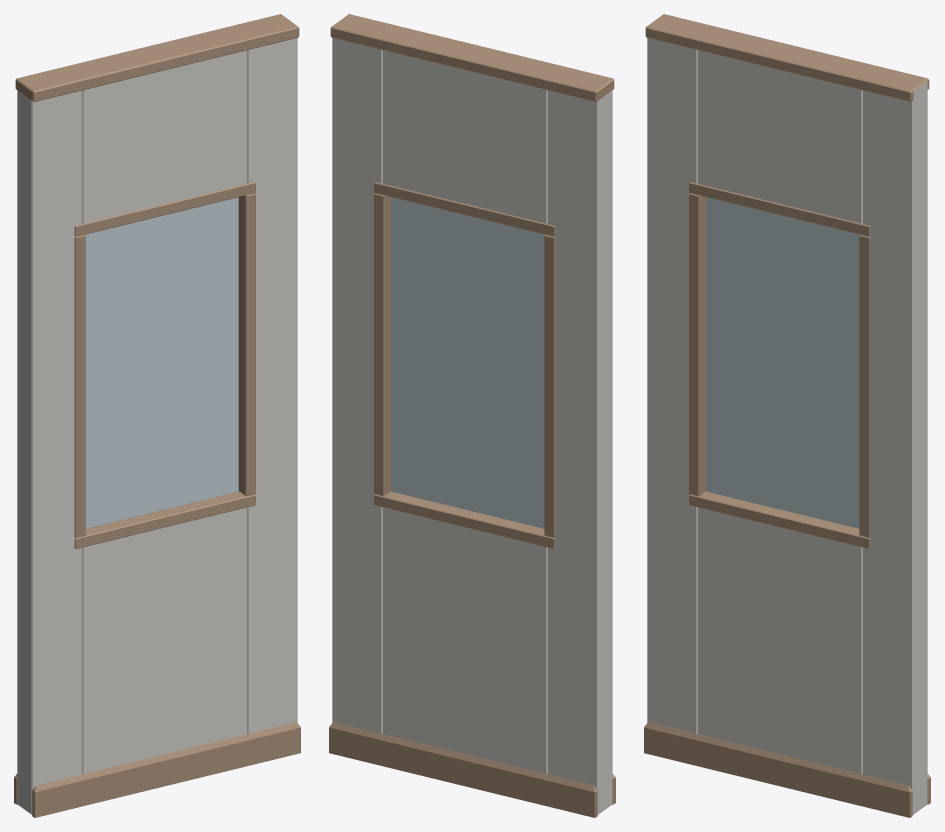
Rendered from hotel-and-resort-operations-partition-wall-glazed-806480f5__25846.glb.
3 views of the same model, side by side, from view 1: azimuth 30°, elevation 25°; view 2: azimuth 150°, elevation 25°; view 3: azimuth 330°, elevation 25° (orthographic).
Parts seen in each view (by area): view 1: partition-wall-glazed; view 2: partition-wall-glazed; view 3: partition-wall-glazed.
Boxes of the visible parts, box(x1,y1,x2,y2) form: partition-wall-glazed: box(14, 14, 300, 817); partition-wall-glazed: box(329, 14, 615, 817); partition-wall-glazed: box(644, 14, 930, 817).
Bounding box in the file's own units: 1 × 2.6 × 0.136.
